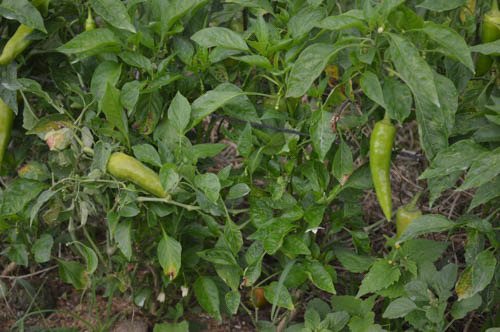ChiliPepper: (93, 145, 177, 208), (367, 111, 404, 225), (1, 18, 44, 70), (472, 8, 500, 78), (1, 99, 23, 168)
